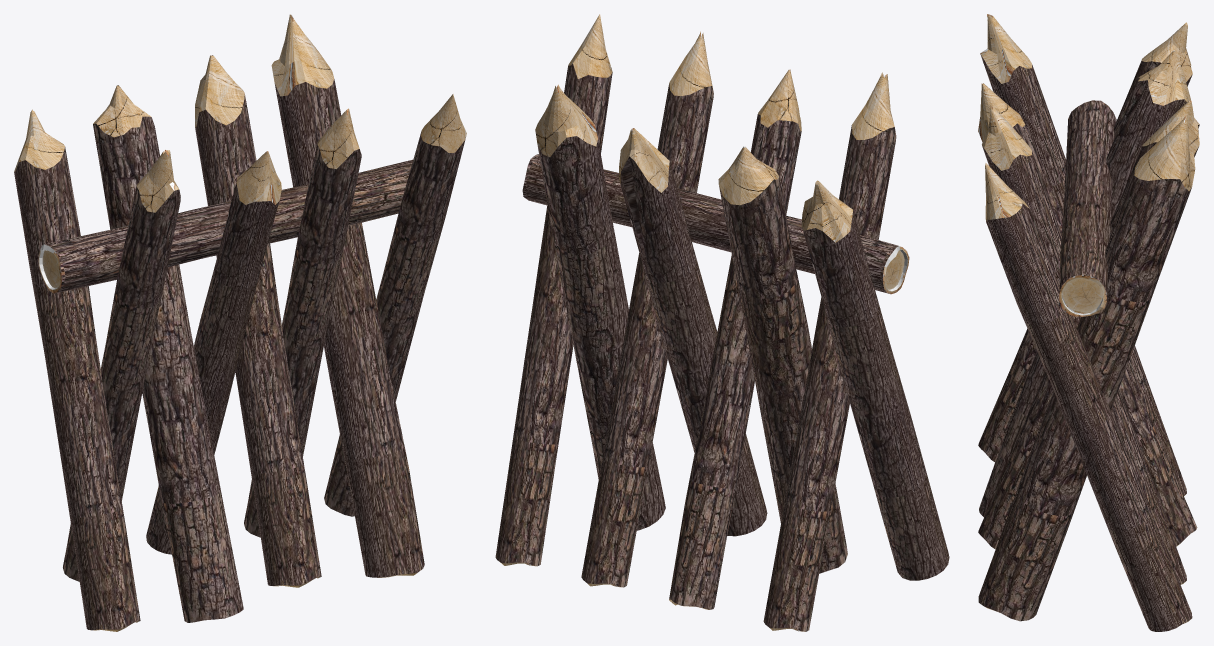
File: woodWall3.FBX
The picture shows the model from 3 angles, left to right: view 1: azimuth 30°, elevation 25°; view 2: azimuth 150°, elevation 25°; view 3: azimuth 270°, elevation 25°; orthographic projection. The views are drawn at different scales.
Visible parts, largest first — view 1: Cylinder001, Cylinder019, Cylinder023, Cylinder008, Cylinder024, Cylinder010, Cylinder004, Cylinder025, Cylinder014; view 2: Cylinder019, Cylinder001, Cylinder024, Cylinder010, Cylinder023, Cylinder025, Cylinder004, Cylinder008, Cylinder014; view 3: Cylinder001, Cylinder004, Cylinder014, Cylinder023, Cylinder010, Cylinder024, Cylinder025, Cylinder008, Cylinder019.
Part boxes in pixels (box(x1,y1,x2,y2)): Cylinder001: box(271, 14, 424, 577); Cylinder019: box(14, 109, 140, 631); Cylinder023: box(93, 85, 243, 622); Cylinder008: box(195, 55, 321, 587); Cylinder024: box(63, 150, 180, 581); Cylinder010: box(244, 108, 361, 537); Cylinder004: box(324, 94, 466, 516); Cylinder025: box(146, 151, 281, 554); Cylinder014: box(38, 159, 413, 293); Cylinder019: box(801, 180, 949, 580); Cylinder001: box(535, 84, 665, 530); Cylinder024: box(763, 72, 896, 631); Cylinder010: box(581, 31, 713, 587); Cylinder023: box(718, 146, 847, 573); Cylinder025: box(669, 69, 801, 609); Cylinder004: box(495, 14, 612, 566); Cylinder008: box(619, 128, 767, 536); Cylinder014: box(522, 154, 909, 294); Cylinder001: box(978, 114, 1195, 621); Cylinder004: box(985, 163, 1192, 631); Cylinder014: box(1059, 100, 1116, 316); Cylinder023: box(979, 50, 1190, 517); Cylinder010: box(982, 104, 1186, 584); Cylinder024: box(980, 14, 1186, 495); Cylinder025: box(978, 83, 1197, 546); Cylinder008: box(978, 100, 1199, 549); Cylinder019: box(978, 22, 1192, 462).
Bounding box in the file's own units: 8.31 × 4.35 × 10.73.
